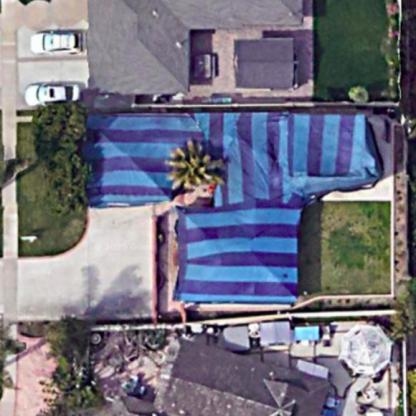car: (24, 24, 90, 61), (23, 78, 97, 110)
